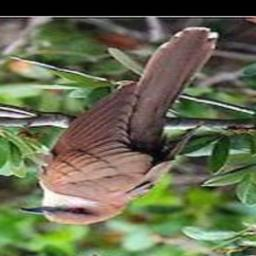Cuckoo: (19, 27, 218, 225)
